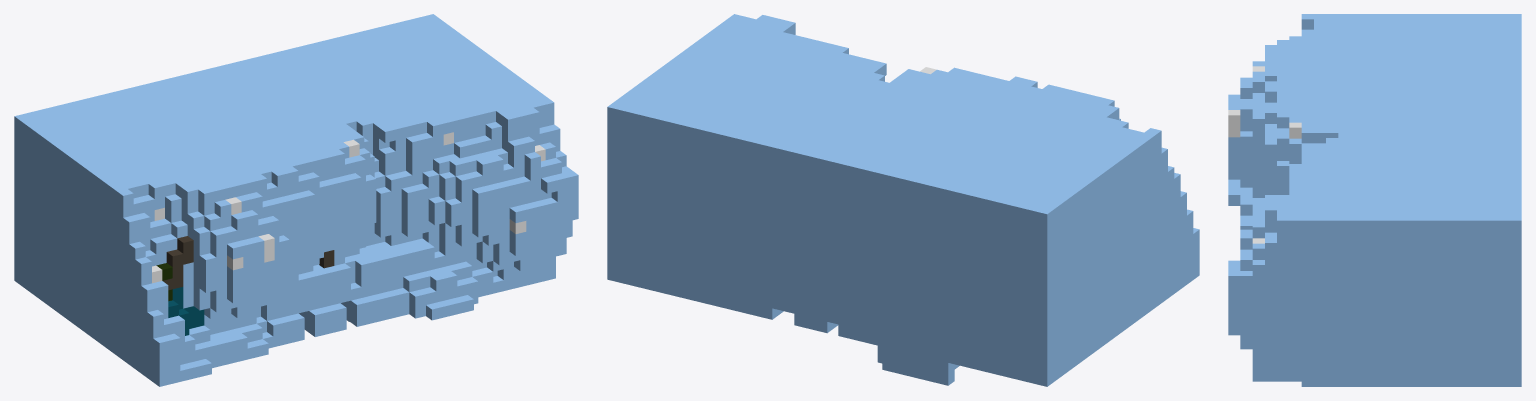
The model's file is snow5.obj.
The picture shows the model from 3 angles, left to right: view 1: azimuth 30°, elevation 25°; view 2: azimuth 150°, elevation 25°; view 3: azimuth 270°, elevation 25°; orthographic projection. The views are drawn at different scales.
Bounding box in the file's own units: 4 × 1.7 × 2.4.
1 material, 1 textured.
